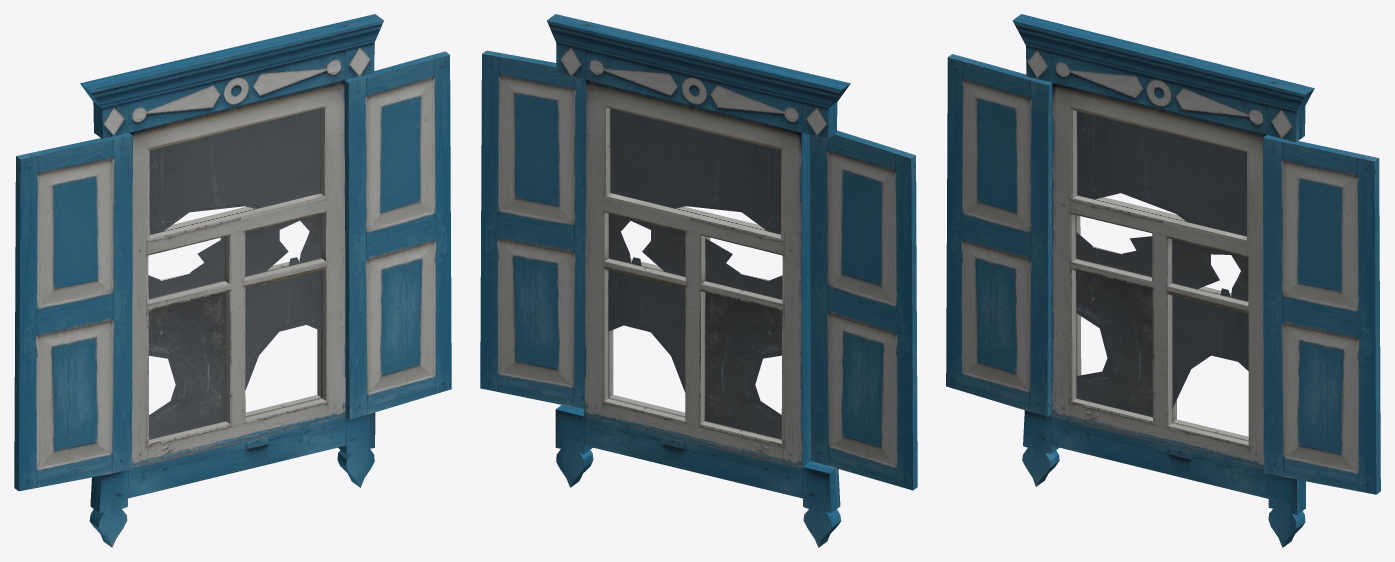
File: Windows_12.fbx
The picture shows the model from 3 angles, left to right: view 1: azimuth 30°, elevation 25°; view 2: azimuth 150°, elevation 25°; view 3: azimuth 330°, elevation 25°; orthographic projection.
Visible parts, largest first — view 1: Windows_12, Windows_12glass (×5); view 2: Windows_12, Windows_12glass (×5); view 3: Windows_12, Windows_12glass (×5).
Part boxes in pixels (x1,y1,x2,y2): Windows_12: (14,14,451,547); Windows_12glass (×5): (148,108,321,439); Windows_12: (480,14,917,547); Windows_12glass (×5): (608,108,782,439); Windows_12: (946,14,1380,547); Windows_12glass (×5): (1076,111,1248,417).
Size of the model in its own units: 195 by 10.03 by 200.
Materials: 2 (2 with a texture image).
